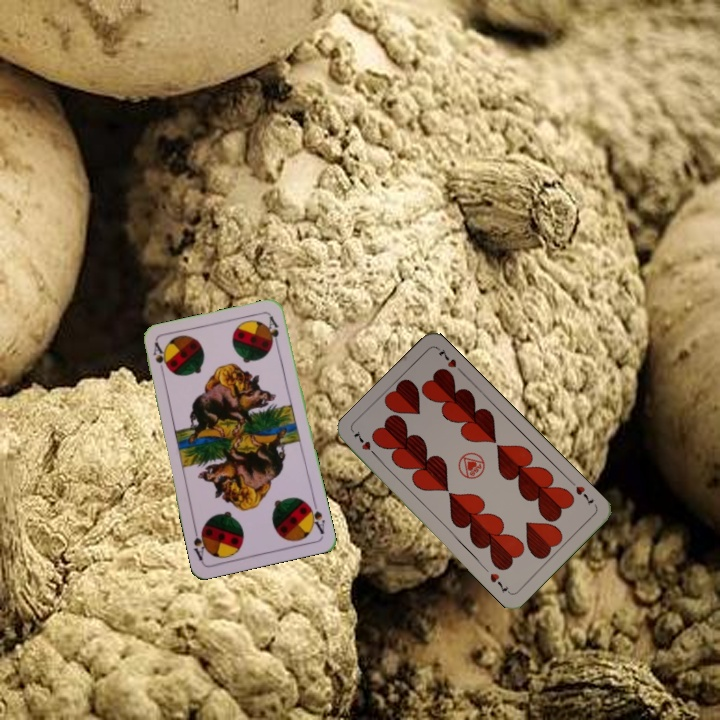H7: (349, 428, 381, 460), (566, 477, 596, 508)
SA: (303, 497, 328, 537), (149, 339, 169, 379)
